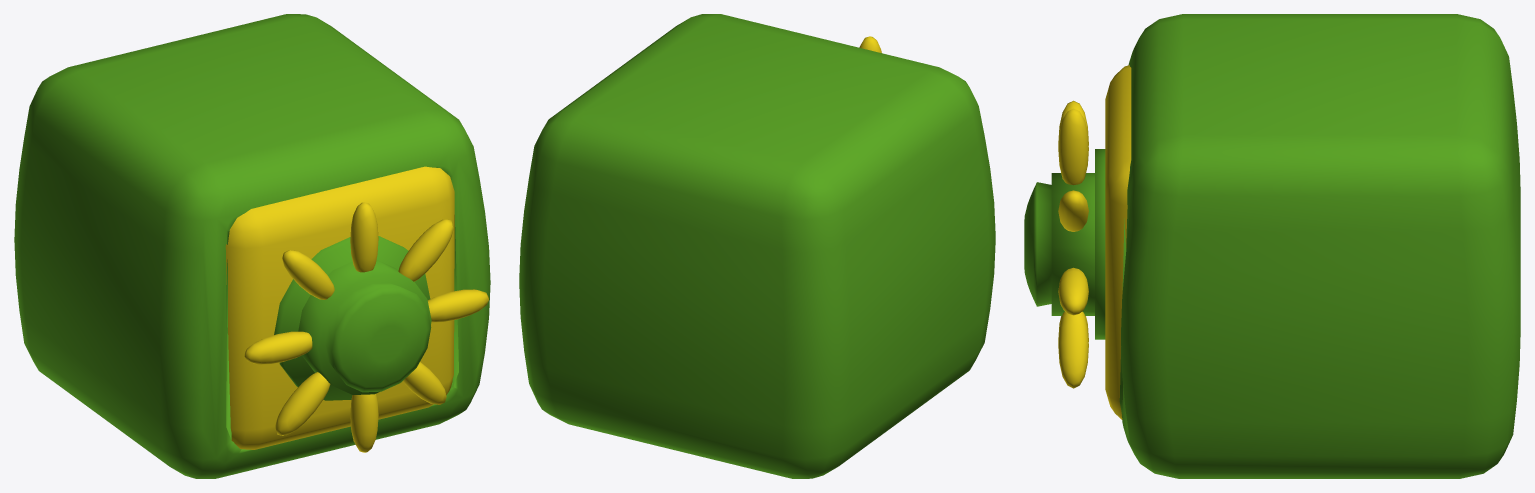
The model's file is Kasa.fbx.
3 views of the same model, side by side, from view 1: azimuth 30°, elevation 25°; view 2: azimuth 150°, elevation 25°; view 3: azimuth 270°, elevation 25° (orthographic). The views are drawn at different scales.
Parts seen in each view (by area): view 1: Circle.001, Circle; view 2: Circle.001; view 3: Circle.001, Circle.
Part boxes in pixels (bbox=[...]): Circle.001: bbox=[14, 14, 490, 478]; Circle: bbox=[274, 236, 430, 400]; Circle.001: bbox=[519, 14, 995, 478]; Circle.001: bbox=[1024, 14, 1520, 478]; Circle: bbox=[1095, 149, 1105, 339].
Size of the model in its own units: 224 by 205 by 274.
